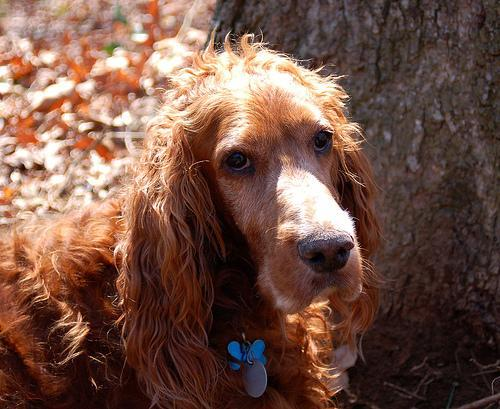Irish_setter: (2, 31, 383, 406)
